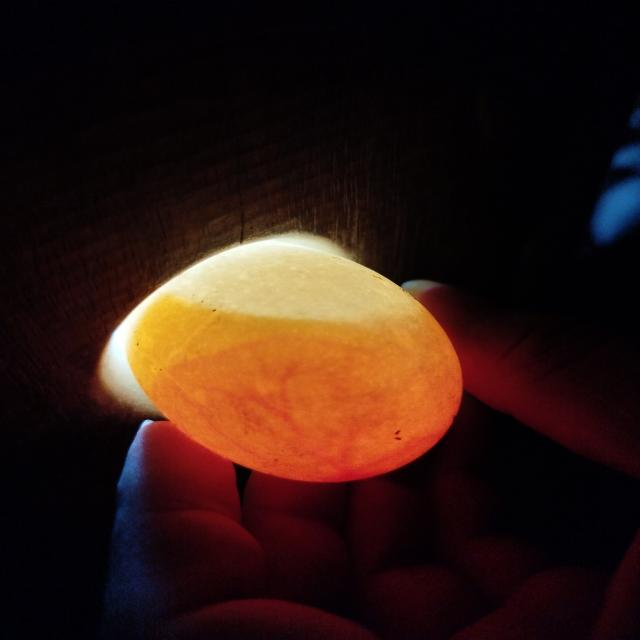Gema Quebrada: (125, 293, 462, 484)
